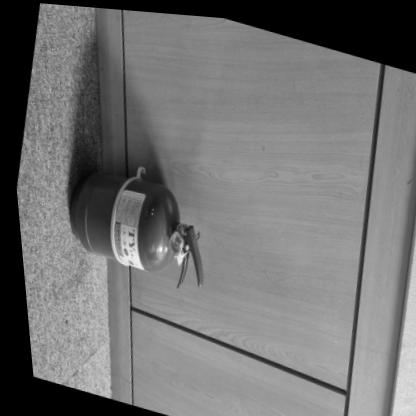FE: (50, 153, 220, 294)
